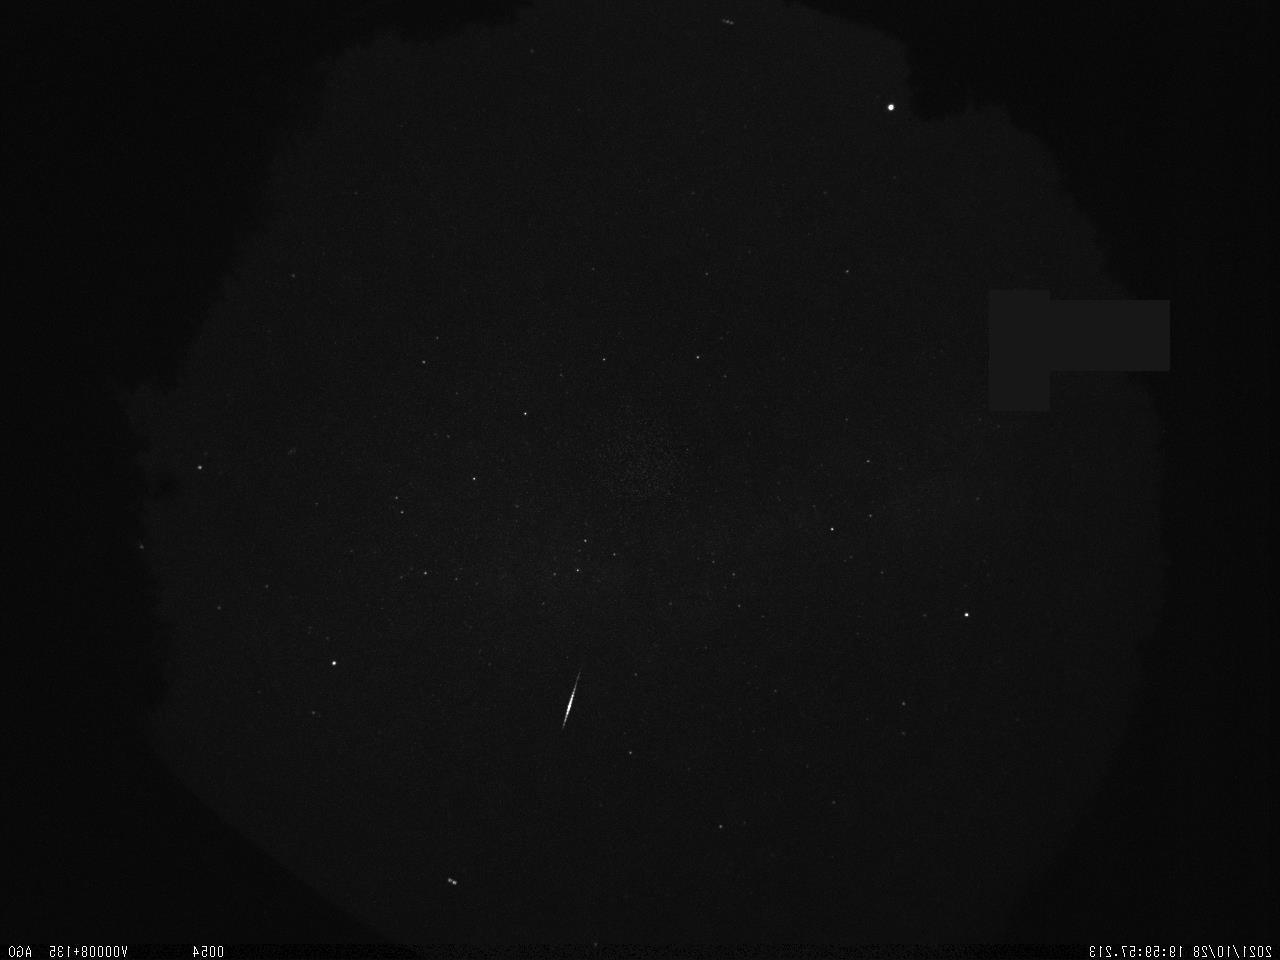meteor: (526, 654, 612, 735)
